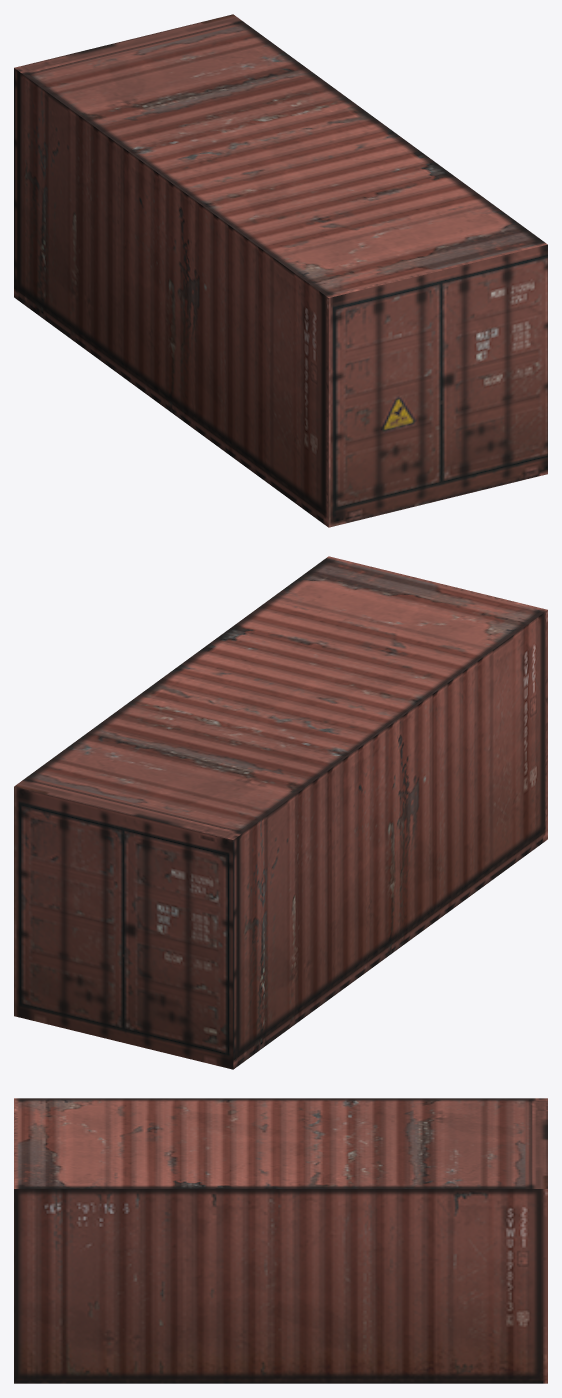
The model's file is sm_jizhuangxiang_a.fbx.
3 renders of one model, top to bottom at view 1: azimuth 30°, elevation 25°; view 2: azimuth 150°, elevation 25°; view 3: azimuth 270°, elevation 25°, orthographic. The views are drawn at different scales.
Visible parts, largest first — view 1: sm_jizhuangxiang_a; view 2: sm_jizhuangxiang_a; view 3: sm_jizhuangxiang_a.
Boxes of the visible parts, left/top/right/bottom form: sm_jizhuangxiang_a: left=14, top=14, right=547, bottom=527; sm_jizhuangxiang_a: left=14, top=556, right=547, bottom=1069; sm_jizhuangxiang_a: left=14, top=1098, right=547, bottom=1383.
Size of the model in its own units: 2.44 by 2.44 by 6.06.
Materials: 1 (1 with a texture image).
